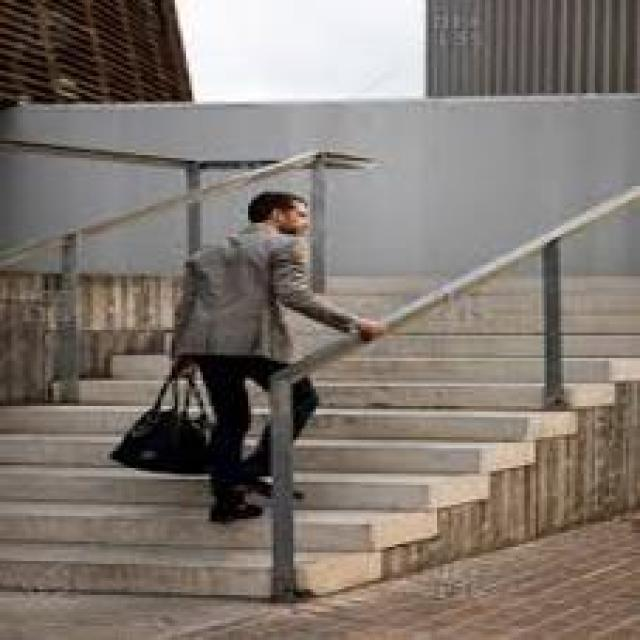stair: (4, 387, 314, 593)
